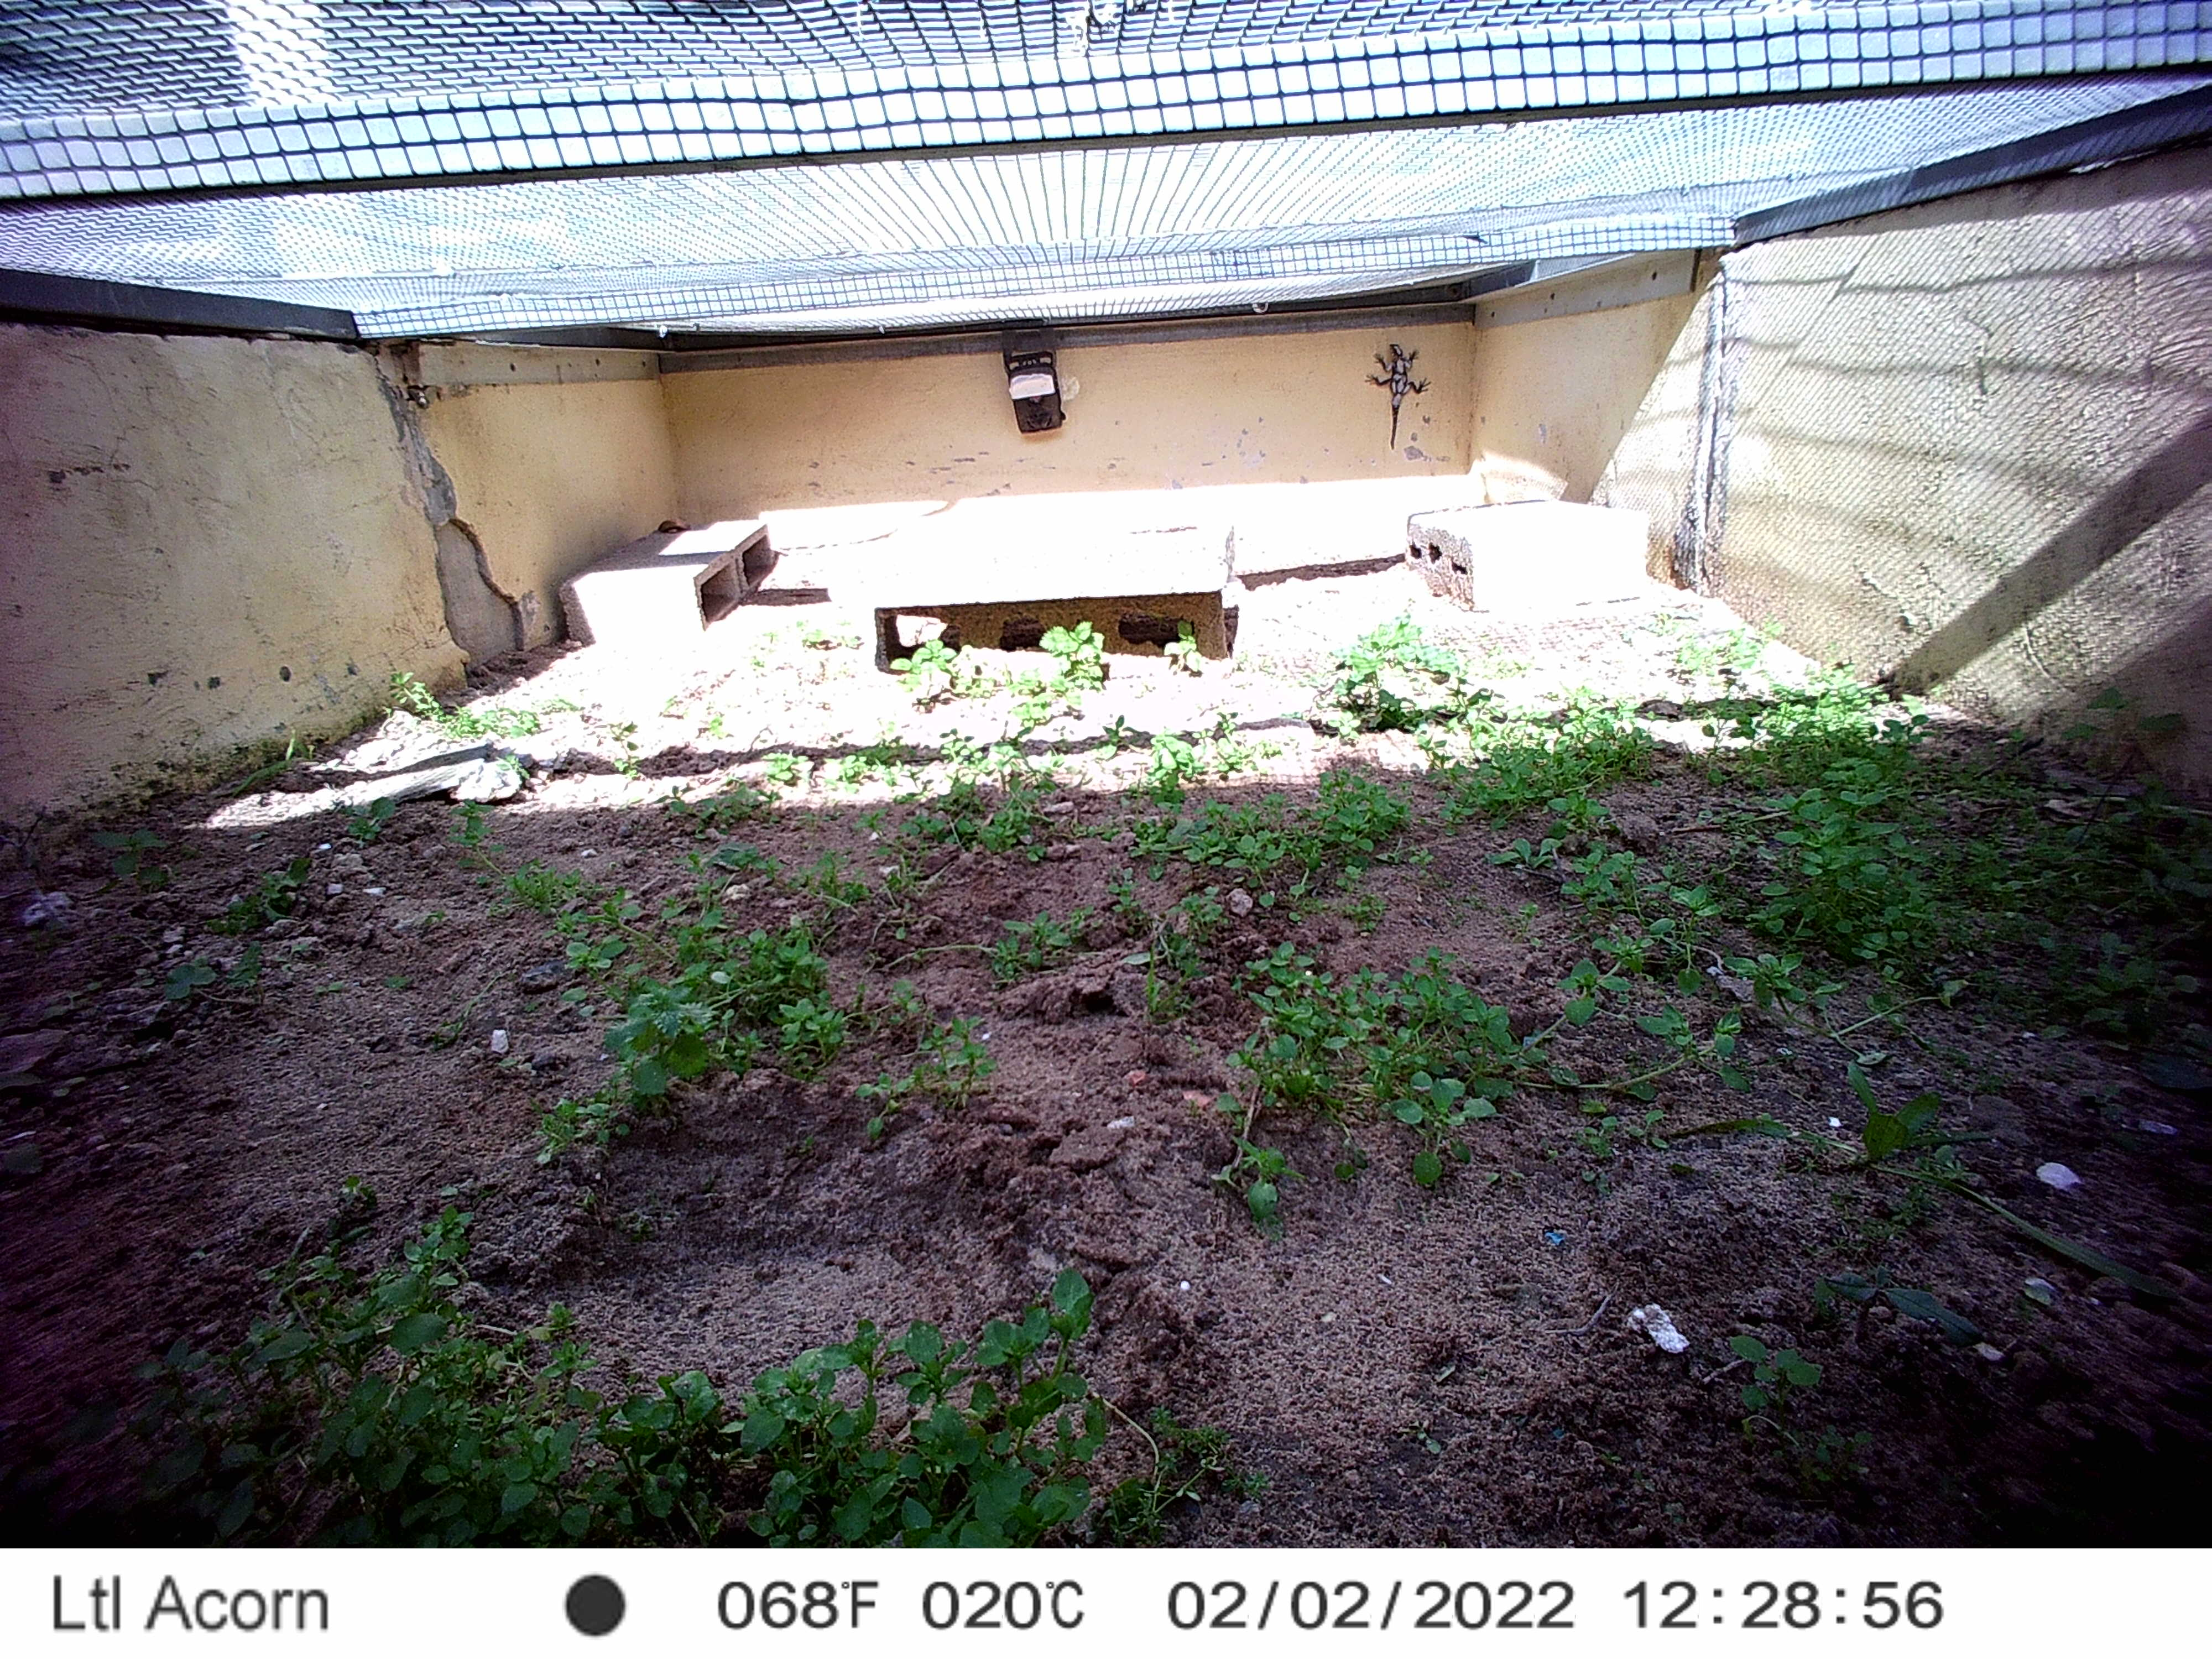lizard: (1366, 340, 1435, 457)
